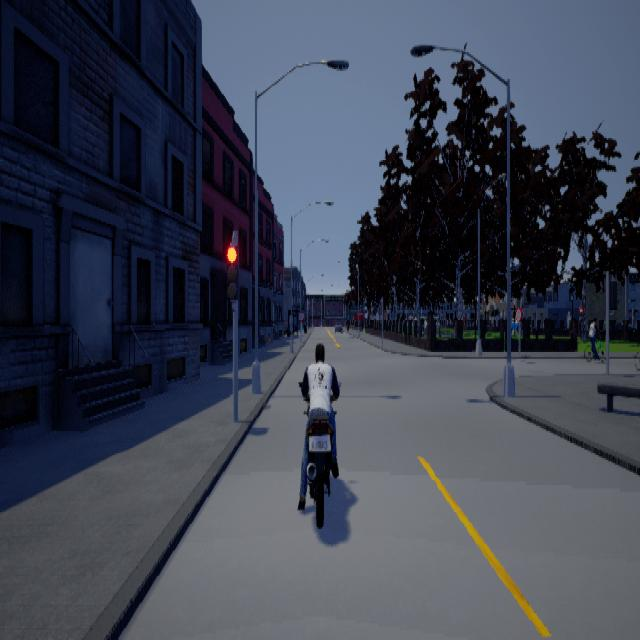motobike: (296, 335, 342, 532)
red_light: (228, 232, 240, 310)
